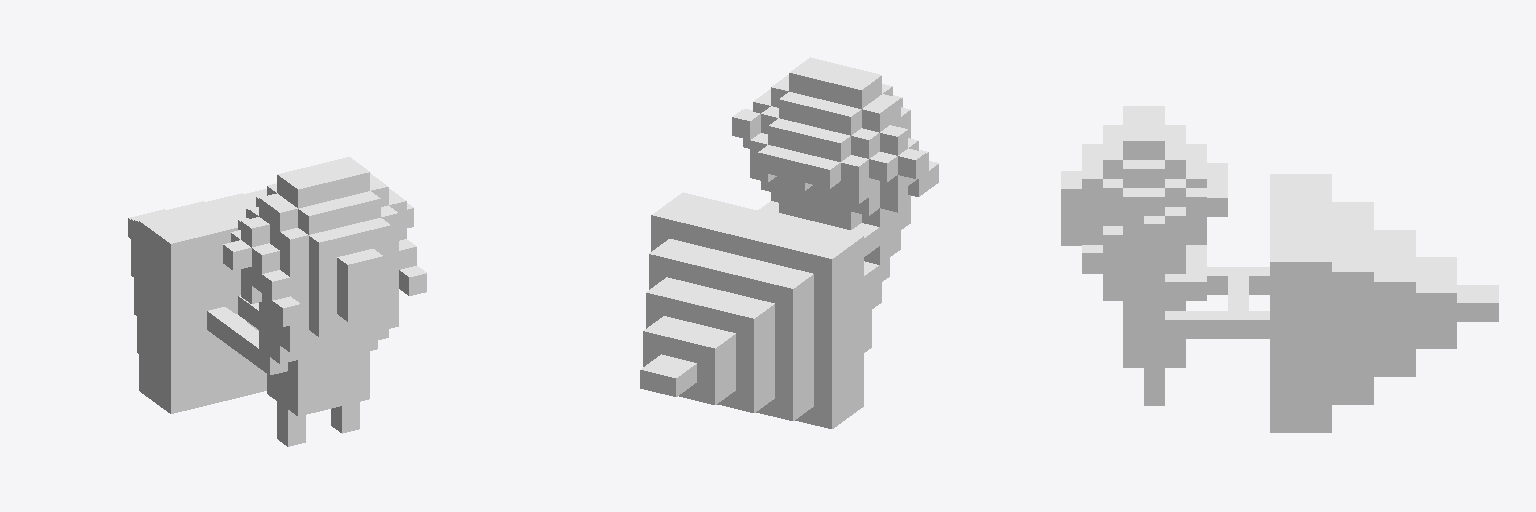
Rendered from attacker1.obj.
3 renders of one model, left to right at view 1: azimuth 30°, elevation 25°; view 2: azimuth 150°, elevation 25°; view 3: azimuth 270°, elevation 25°, orthographic.
Parts seen in each view (by area): view 1: object 1; view 2: object 1; view 3: object 1.
Boxes of the visible parts, box(x1,y1,x2,y2) form: object 1: box(128, 157, 426, 446); object 1: box(640, 57, 938, 428); object 1: box(1061, 106, 1498, 432).
Size of the model in its own units: 1 by 1.4 by 2.1.